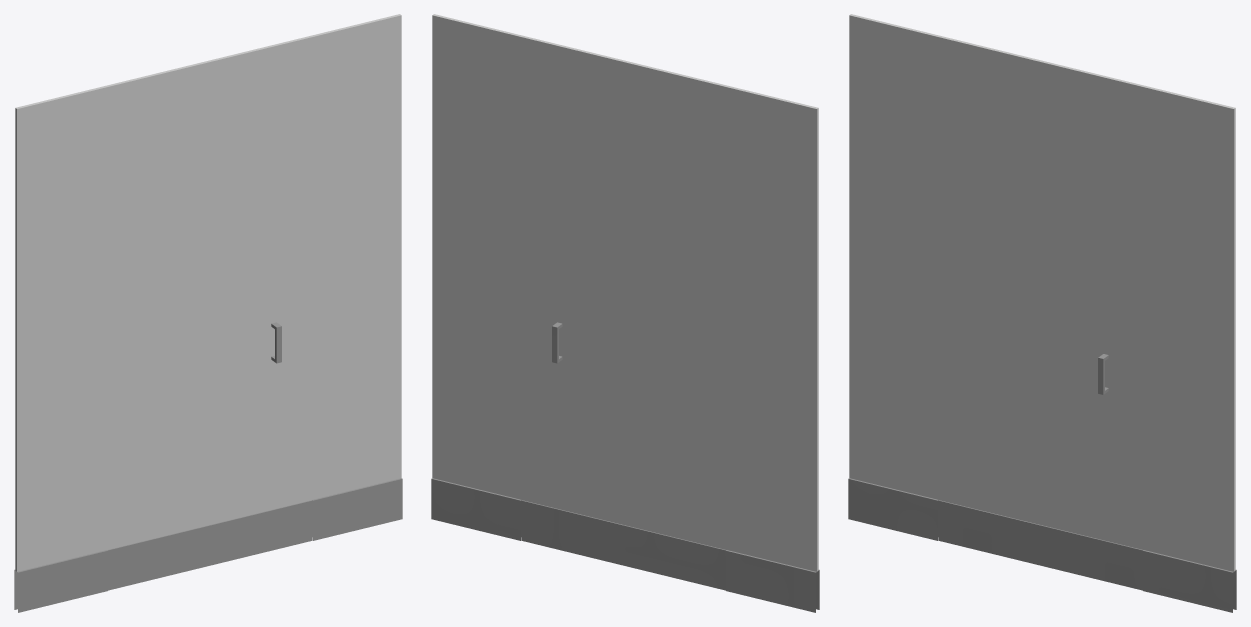
Rendered from Wall_Glass_Door.fbx.
3 renders of one model, left to right at view 1: azimuth 30°, elevation 25°; view 2: azimuth 150°, elevation 25°; view 3: azimuth 330°, elevation 25°, orthographic.
Visible parts, largest first — view 1: Wall_Glass_Door, Glass_Door; view 2: Wall_Glass_Door, Glass_Door; view 3: Wall_Glass_Door, Glass_Door.
Part boxes in pixels (x1,y1,x2,y2): Wall_Glass_Door: (14,14,402,612); Glass_Door: (107,138,312,590); Wall_Glass_Door: (431,14,819,612); Glass_Door: (521,138,726,590); Wall_Glass_Door: (848,14,1236,612); Glass_Door: (938,138,1143,590).
Size of the model in its own units: 2 by 2.5 by 0.113.
